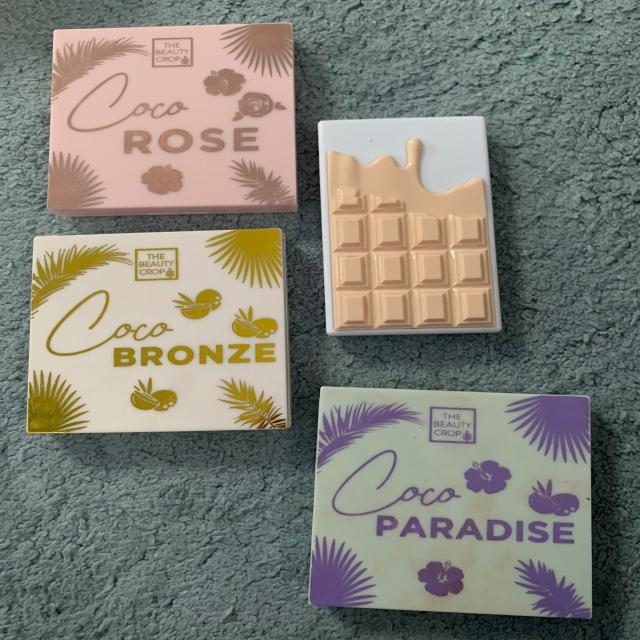makeup: (303, 376, 613, 636), (17, 222, 295, 440), (44, 21, 306, 227), (309, 107, 528, 352)
